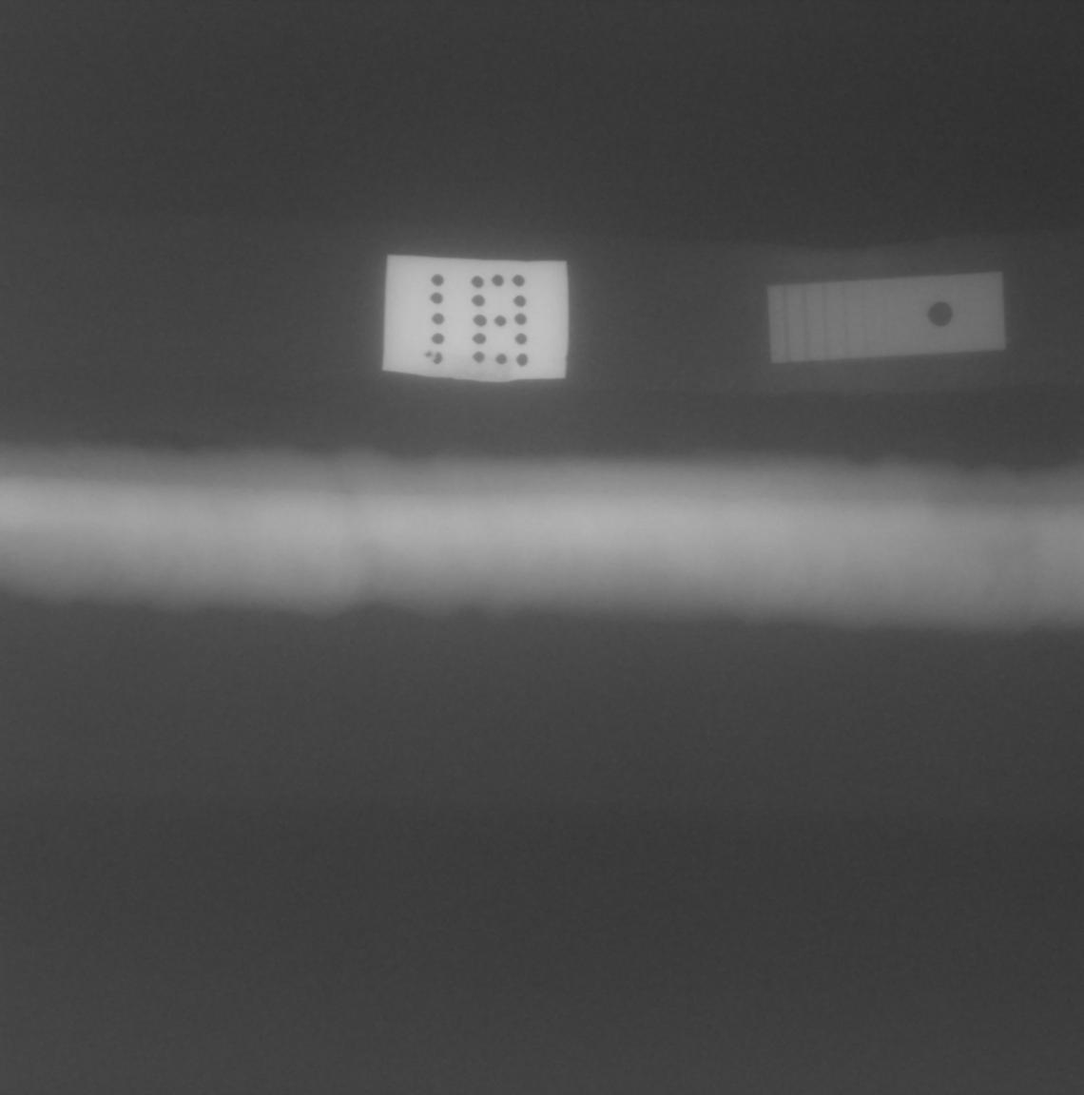Reference Standard 1: (768, 271, 1007, 364)
